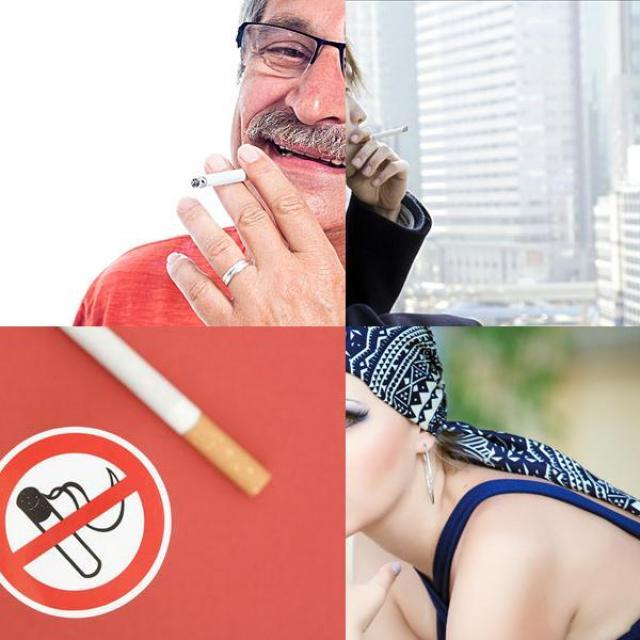cigarette: (12, 326, 274, 497), (190, 167, 250, 191), (352, 120, 409, 138)
